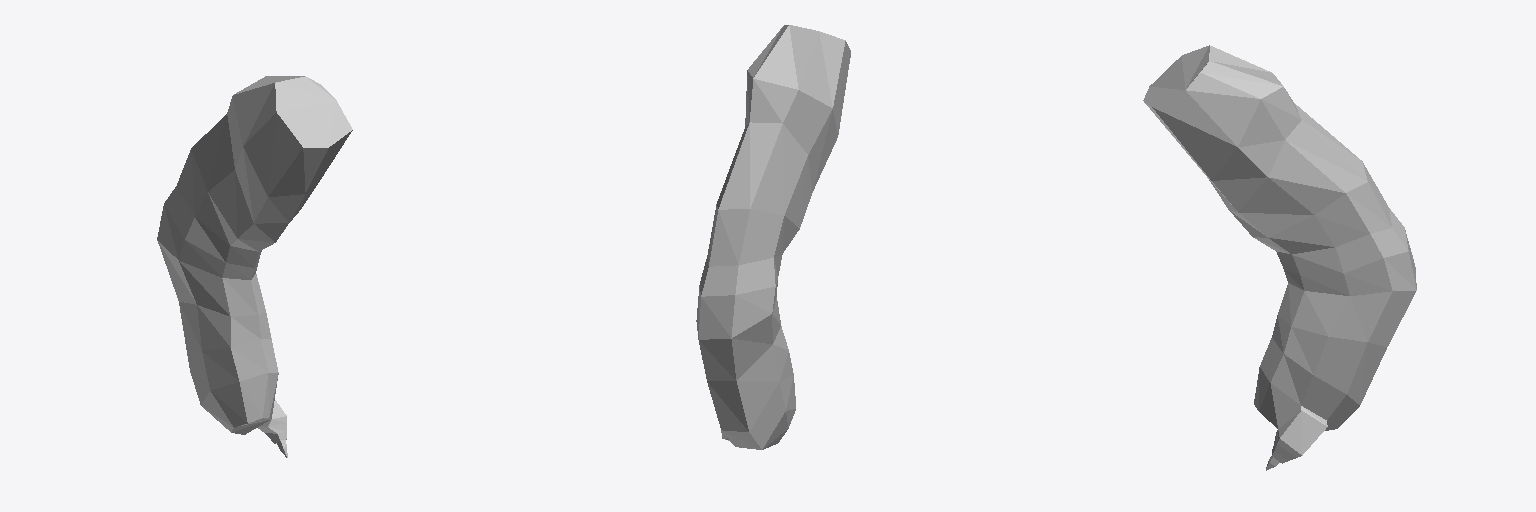
The model's file is spinosaurusRightKneeOfficialStar.obj.
3 views of the same model, side by side, from view 1: azimuth 30°, elevation 25°; view 2: azimuth 150°, elevation 25°; view 3: azimuth 270°, elevation 25° (orthographic).
Parts seen in each view (by area): view 1: LeftLegLimb_Cube.000; view 2: LeftLegLimb_Cube.000; view 3: LeftLegLimb_Cube.000.
Boxes of the visible parts, box(x1,y1,x2,y2) form: LeftLegLimb_Cube.000: box(157, 76, 352, 457); LeftLegLimb_Cube.000: box(696, 25, 850, 449); LeftLegLimb_Cube.000: box(1143, 45, 1416, 470).
Size of the model in its own units: 0.4233 by 2.01 by 1.23.